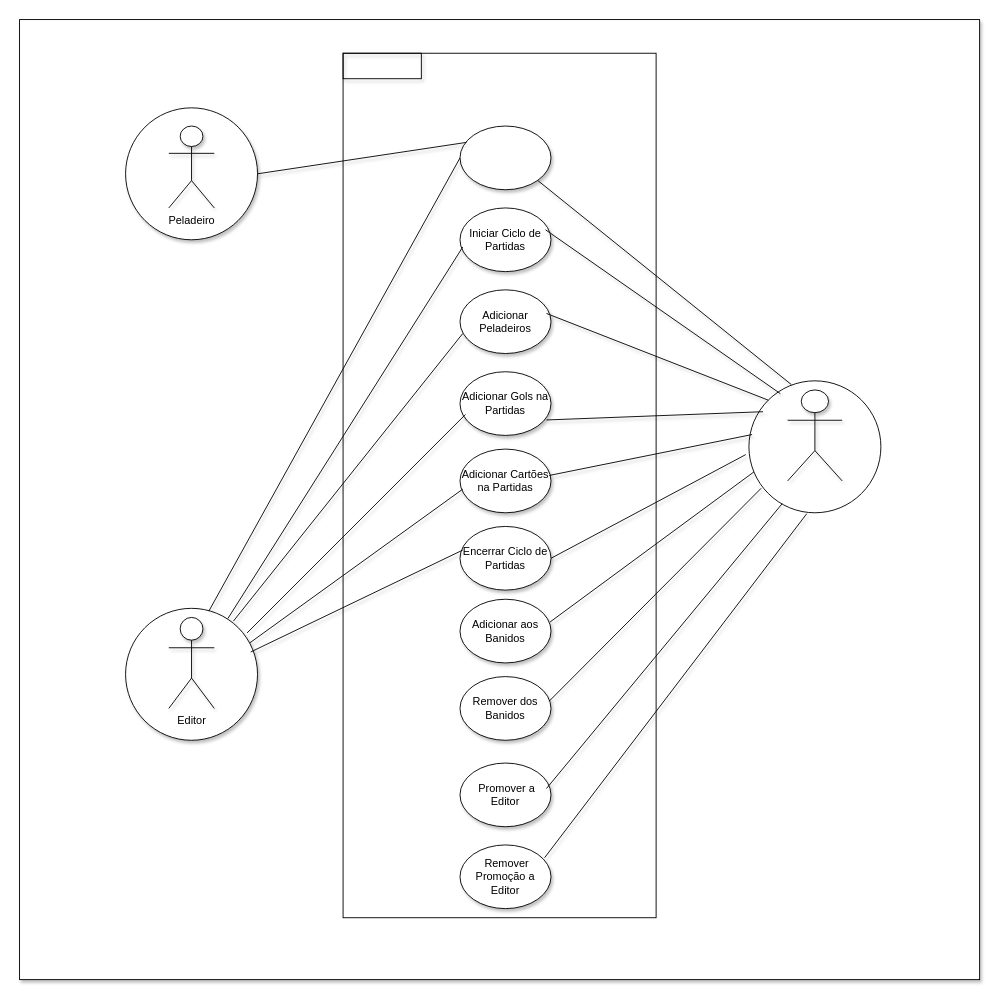
Image size: 1001x1002. Some labels were removed from this diagram. The shapes that lost their labels are listed below. From the top down, each one's centre as x and y in pixels, then its label:
At (383,67): "Ações Fut".
At (505,158): "Buscar Historico do Fut".
At (815,436): "Administrador".
